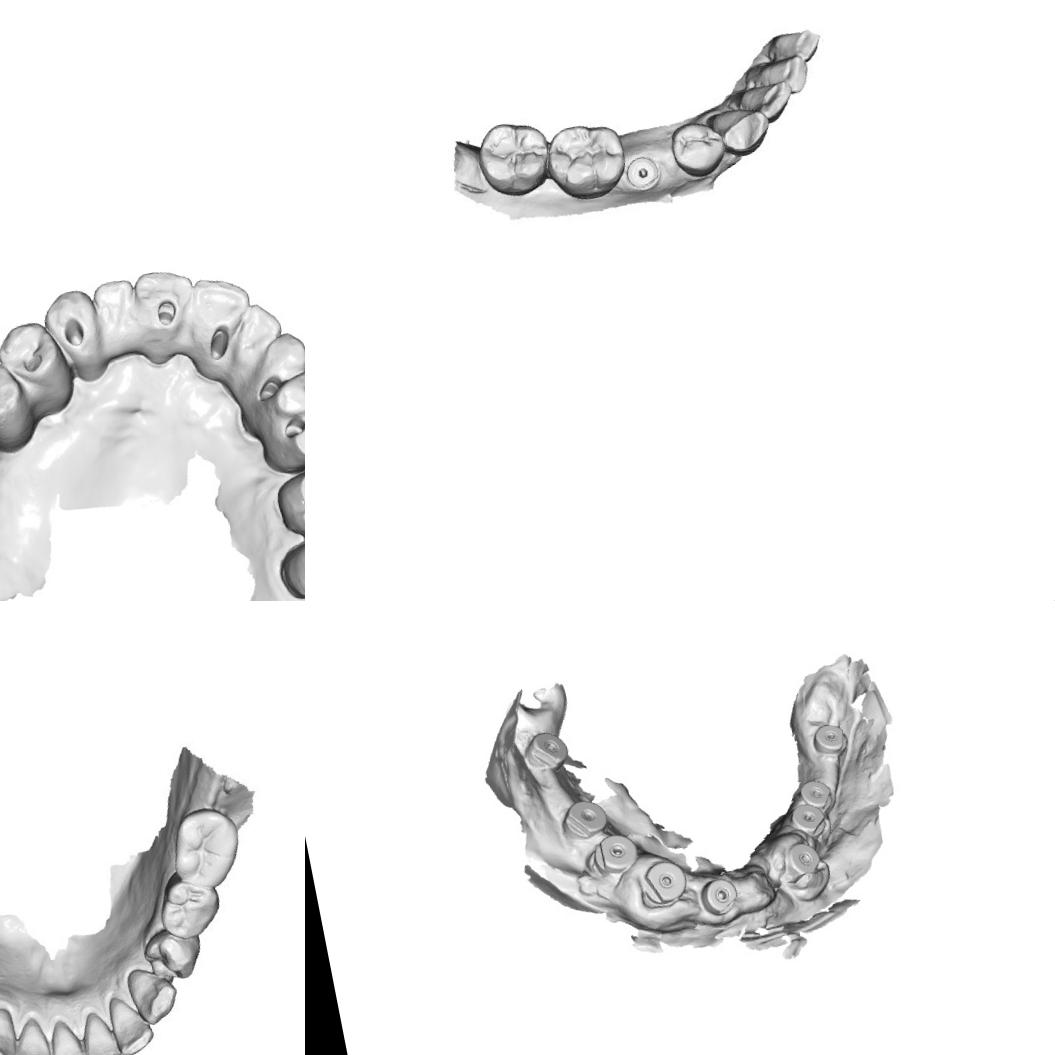canine: (38, 284, 103, 368), (702, 99, 772, 160), (122, 960, 181, 1028), (245, 327, 305, 387), (0, 1001, 25, 1055)
implant: (634, 853, 694, 910), (522, 724, 574, 774), (588, 830, 639, 879), (561, 793, 610, 839), (806, 717, 852, 760), (698, 872, 741, 918), (782, 835, 823, 883), (787, 796, 831, 840), (621, 152, 663, 194), (796, 775, 838, 816)
incisor: (185, 268, 259, 350), (130, 264, 202, 342), (88, 274, 142, 339), (230, 298, 287, 355), (735, 78, 793, 130), (105, 994, 153, 1055), (758, 50, 812, 102), (5, 1010, 56, 1055), (773, 24, 826, 65), (76, 1009, 121, 1055), (46, 1017, 86, 1055)
molar: (540, 110, 629, 204), (165, 802, 252, 892), (472, 114, 555, 202), (154, 870, 224, 941), (270, 452, 305, 541), (272, 519, 305, 601)
premolar: (0, 315, 69, 401), (134, 920, 204, 986), (667, 116, 730, 183), (0, 353, 28, 450), (263, 363, 305, 424), (272, 402, 305, 470)
